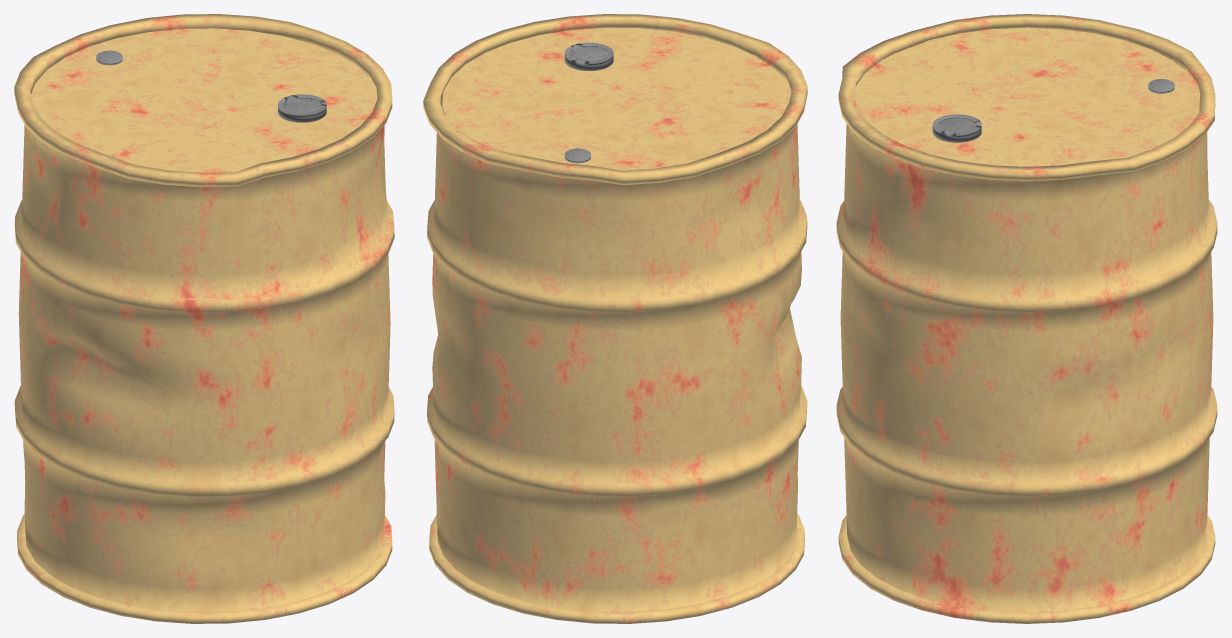
The model's file is RustyBarrelY.fbx.
The picture shows the model from 3 angles, left to right: view 1: azimuth 30°, elevation 25°; view 2: azimuth 150°, elevation 25°; view 3: azimuth 270°, elevation 25°; orthographic projection.
Parts seen in each view (by area): view 1: BarrelBase, Cap1; view 2: BarrelBase, Cap1; view 3: BarrelBase, Cap1.
Part boxes in pixels (x1,y1,x2,y2): BarrelBase: (14, 14, 394, 623); Cap1: (278, 94, 326, 122); BarrelBase: (423, 14, 807, 623); Cap1: (564, 42, 613, 70); BarrelBase: (836, 14, 1217, 623); Cap1: (932, 114, 981, 142).
Size of the model in its own units: 71.54 by 93.42 by 71.54.
